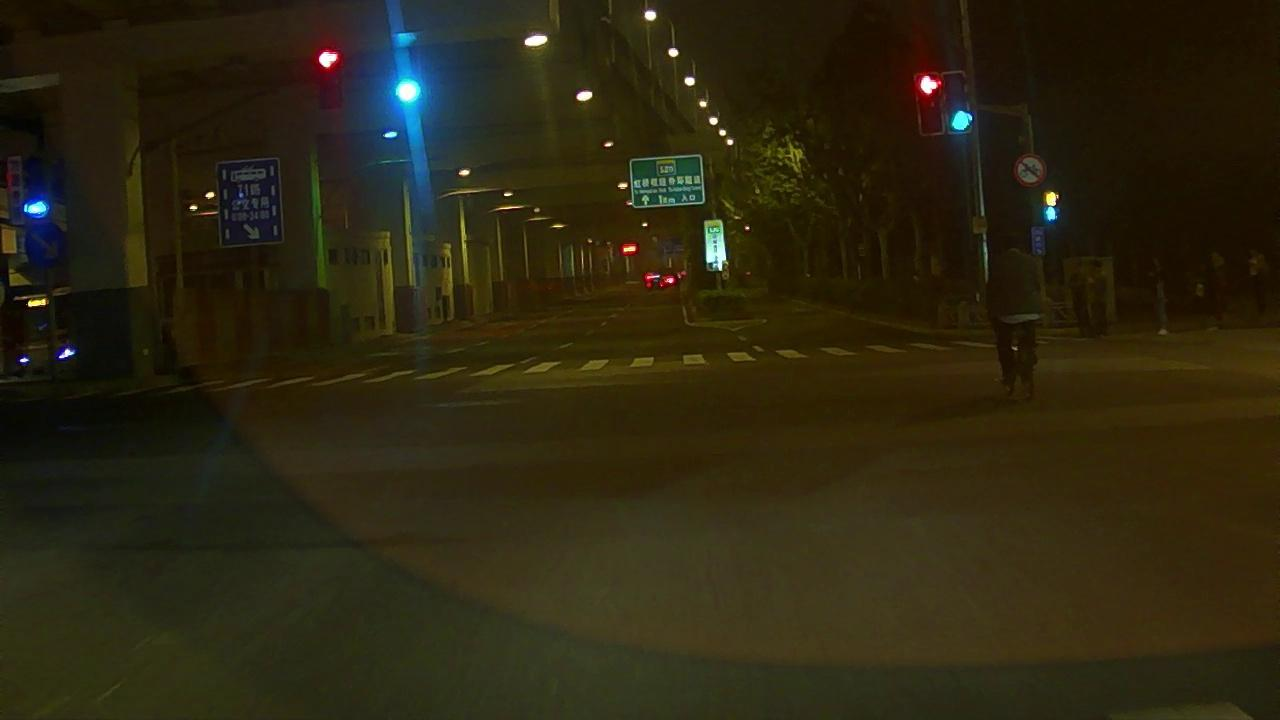traffic_light: (941, 75, 966, 134), (920, 74, 939, 134), (396, 80, 419, 101), (320, 50, 337, 69)
